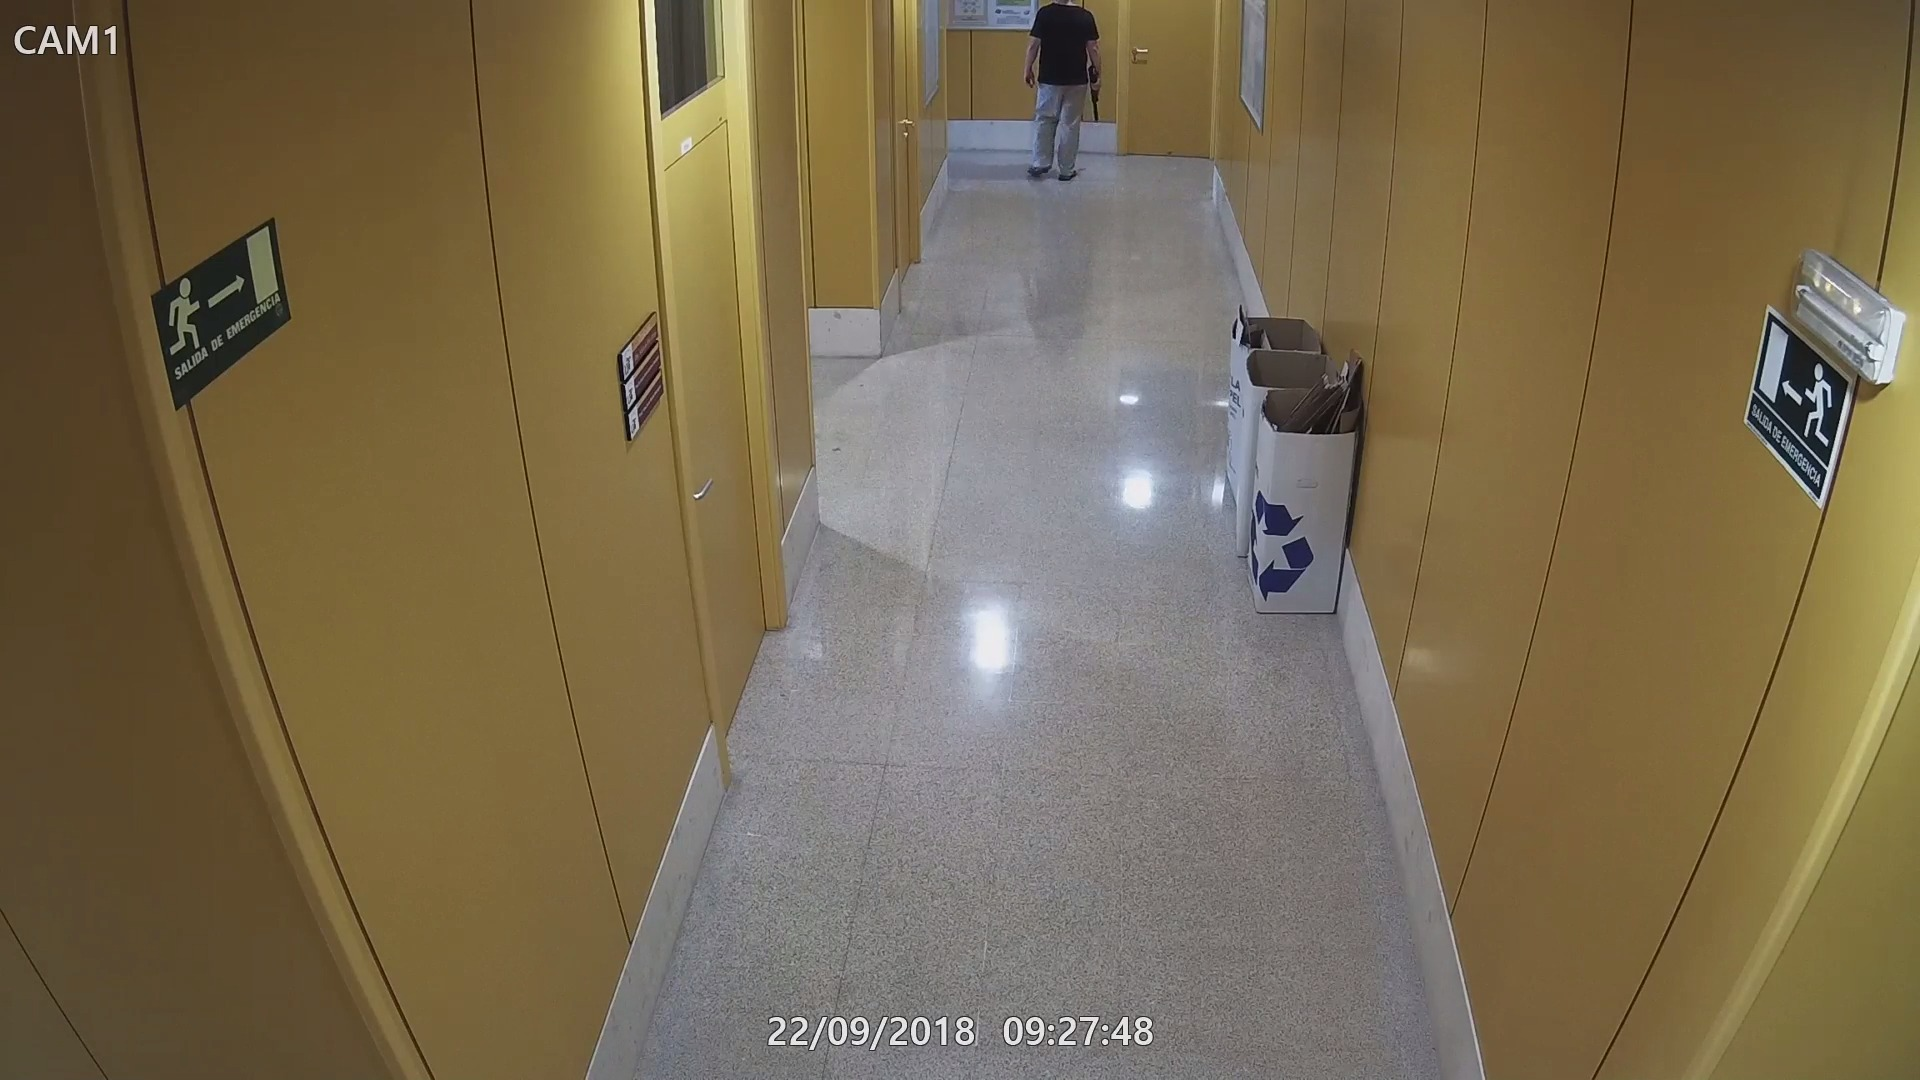Short_rifle: (1083, 61, 1108, 123)
